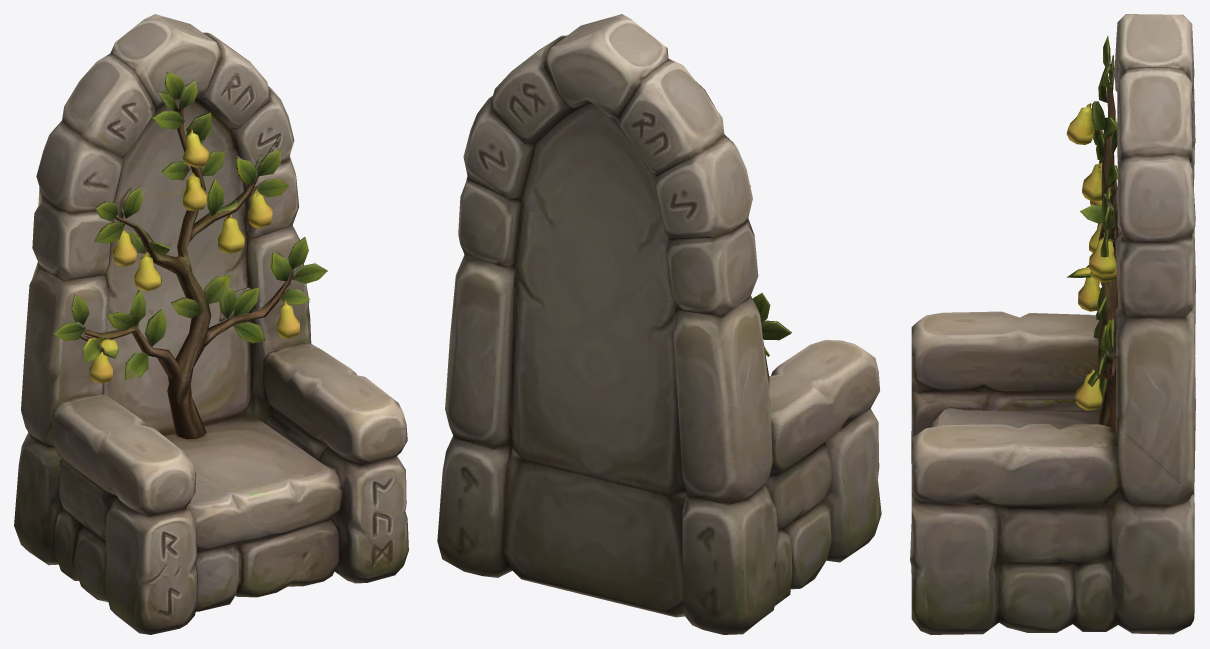
The model's file is throne.glb.
3 views of the same model, side by side, from view 1: azimuth 30°, elevation 25°; view 2: azimuth 150°, elevation 25°; view 3: azimuth 270°, elevation 25° (orthographic). The views are drawn at different scales.
Size of the model in its own units: 0.5712 by 1 by 0.4698.
Materials: 1 (1 with a texture image).
